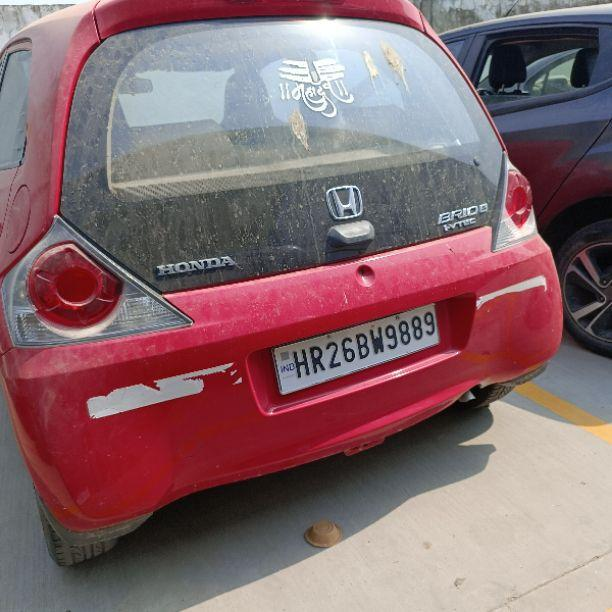license_plate: (268, 301, 441, 396)
